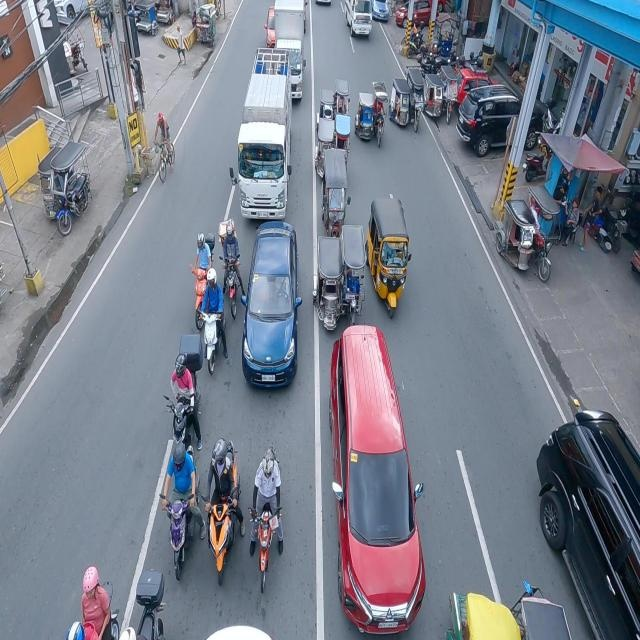Motorcycle: (204, 434, 243, 578), (251, 440, 284, 593), (167, 440, 199, 581), (170, 340, 203, 453), (203, 267, 225, 374), (218, 224, 244, 312), (196, 227, 212, 314)
Truck: (236, 46, 292, 224)
